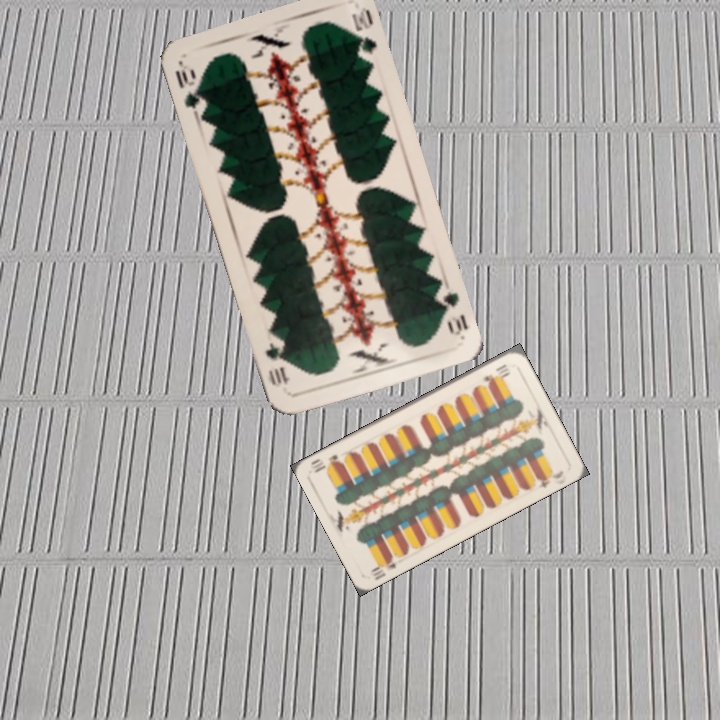E10: (367, 552, 400, 583), (479, 360, 512, 385)
G10: (171, 60, 208, 119), (432, 283, 471, 338)
